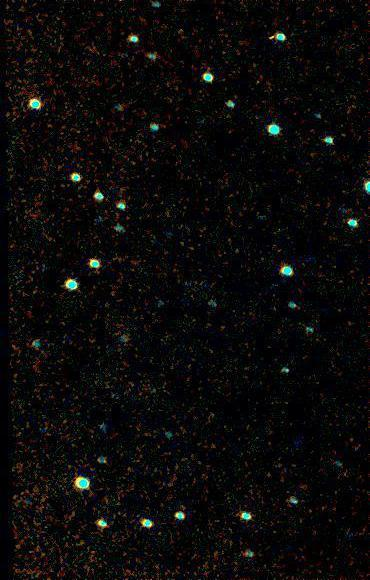star: (259, 23, 289, 53)
